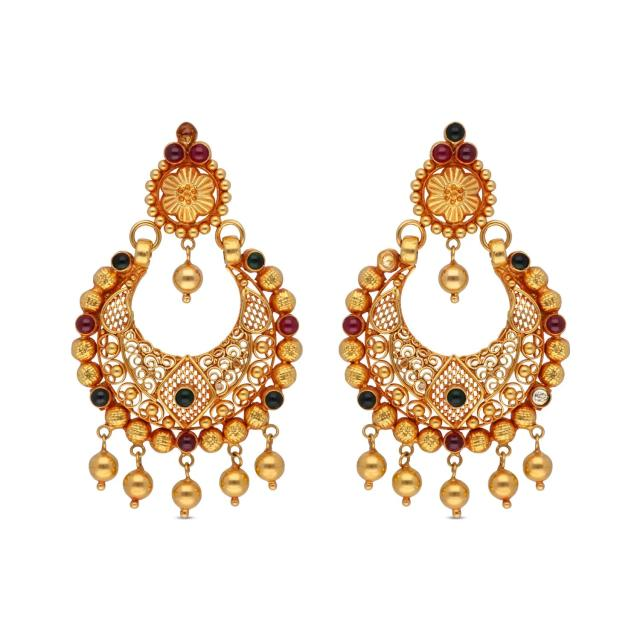missing gem: (177, 122, 197, 143), (378, 252, 395, 270), (533, 389, 548, 404)
